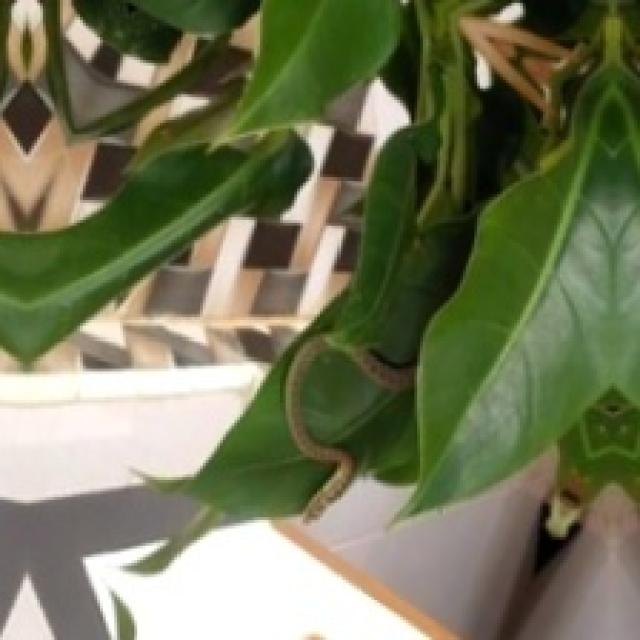paradise tree snake: (286, 334, 411, 520)
